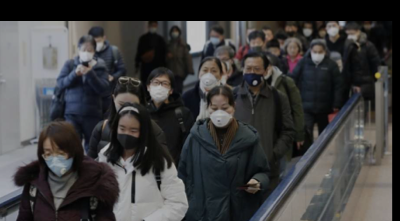with_mask: (42, 145, 74, 176), (115, 122, 140, 150), (208, 101, 233, 128), (242, 63, 265, 87), (149, 77, 171, 102), (199, 64, 220, 88), (79, 46, 95, 61), (310, 47, 324, 64), (326, 23, 340, 36), (94, 37, 104, 51), (209, 33, 221, 44), (302, 25, 313, 37), (346, 30, 359, 40), (172, 27, 179, 37), (149, 24, 157, 32)
without_mask: (286, 42, 298, 55)
